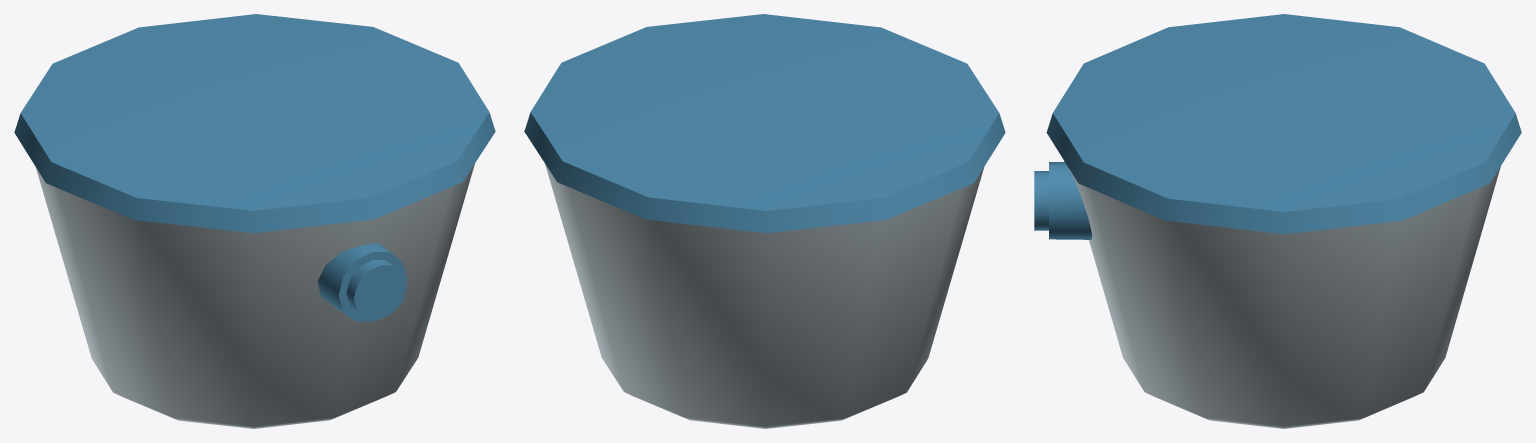
Rendered from Caixa Dagua.fbx.
3 views of the same model, side by side, from view 1: azimuth 30°, elevation 25°; view 2: azimuth 150°, elevation 25°; view 3: azimuth 270°, elevation 25° (orthographic).
Parts seen in each view (by area): view 1: Caixa Dagua.001; view 2: Caixa Dagua.001; view 3: Caixa Dagua.001.
Boxes of the visible parts, x1,y1,x2,y2 form: Caixa Dagua.001: (14,14,495,428); Caixa Dagua.001: (524,14,1005,428); Caixa Dagua.001: (1034,14,1521,428).
Bounding box in the file's own units: 168 × 101 × 170.
1 material, 1 textured.
